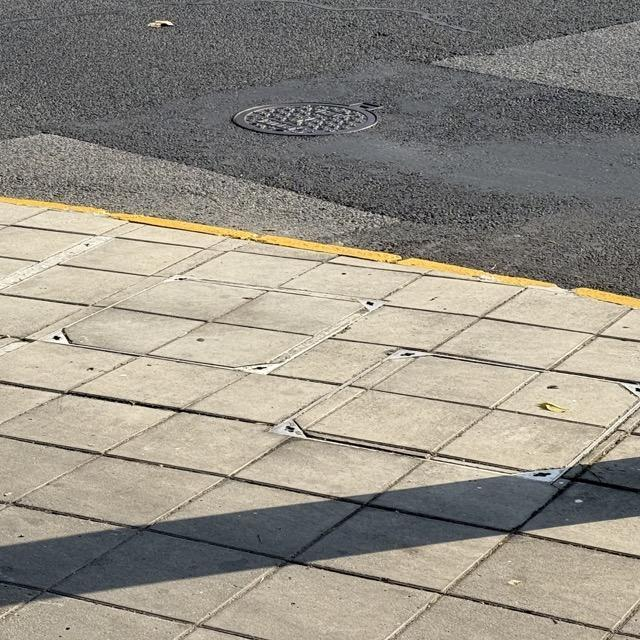curb: (0, 197, 554, 288), (577, 288, 639, 309)
